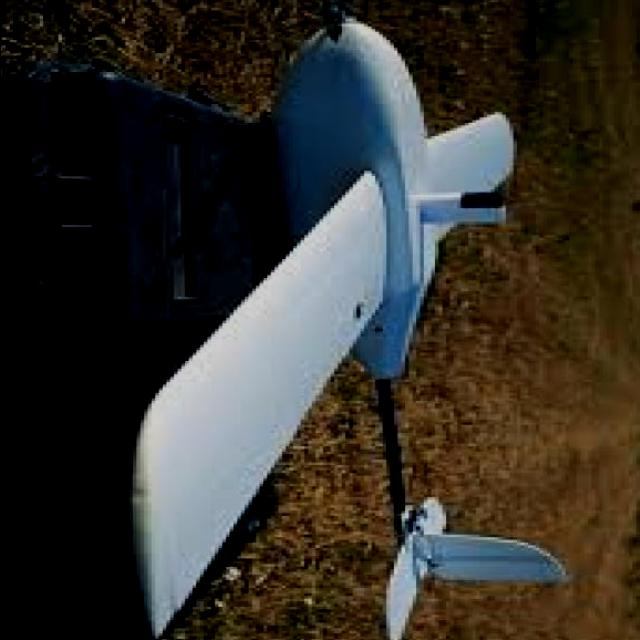plane: (123, 6, 572, 640)
